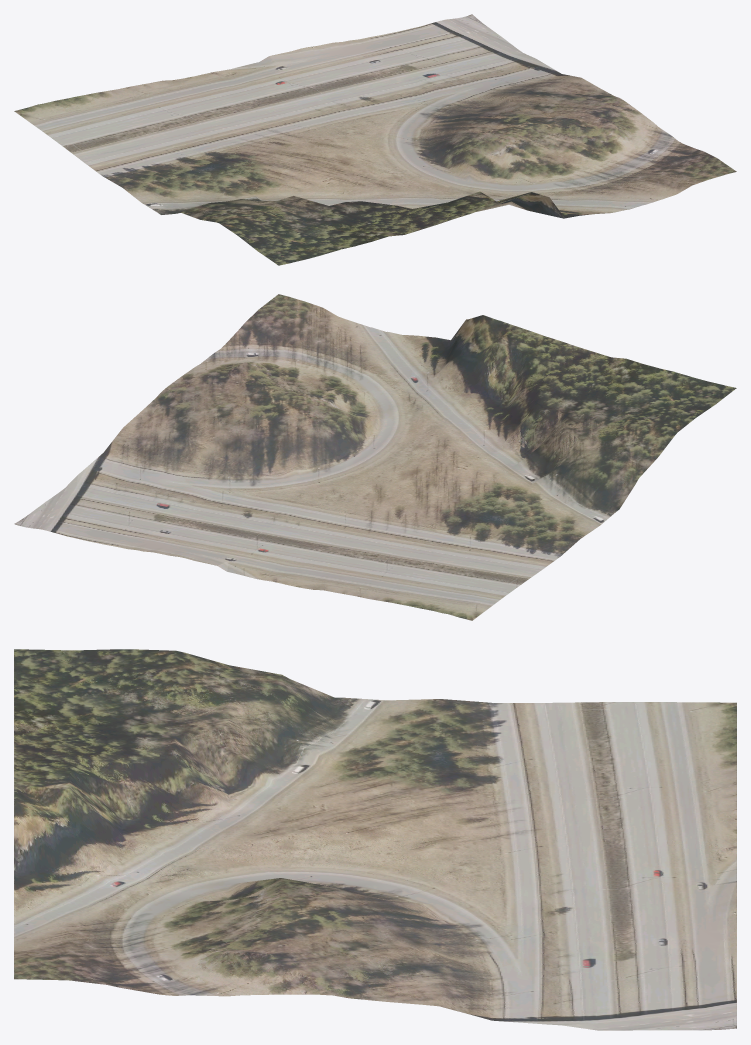
Rendered from CM_Terrain_24491278_6817746.fbx.
3 views of the same model, one above another, from view 1: azimuth 30°, elevation 25°; view 2: azimuth 150°, elevation 25°; view 3: azimuth 270°, elevation 25° (orthographic). The views are drawn at different scales.
Visible parts, largest first — view 1: CM_Terrain_24491278_6817746_LOD0; view 2: CM_Terrain_24491278_6817746_LOD0; view 3: CM_Terrain_24491278_6817746_LOD0.
Part boxes in pixels (x1=…): CM_Terrain_24491278_6817746_LOD0: x1=14, y1=14, x2=736, y2=265; CM_Terrain_24491278_6817746_LOD0: x1=14, y1=294, x2=736, y2=620; CM_Terrain_24491278_6817746_LOD0: x1=14, y1=649, x2=736, y2=1030.
Size of what is drawn, in the model's own units: 205 by 28.53 by 205.
